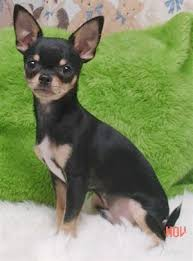chihuahua: (7, 1, 188, 261)
